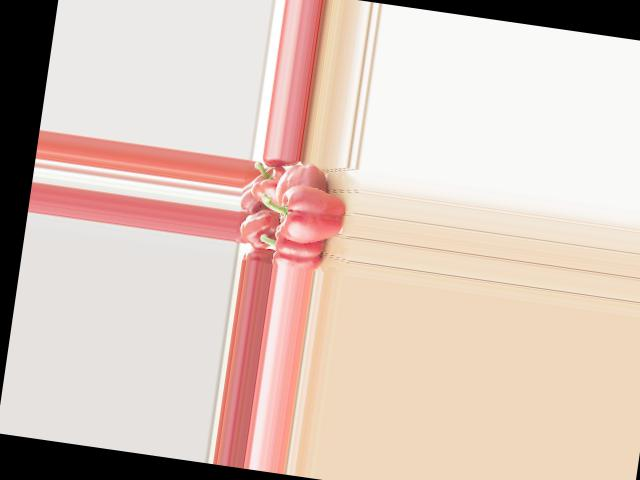bell_pepper: (248, 158, 288, 205)
